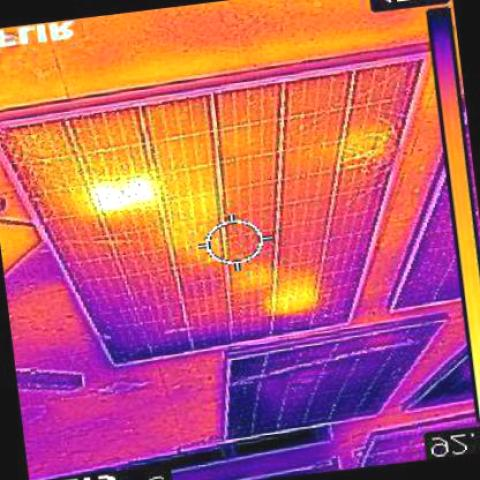fault: (91, 181, 161, 210)
